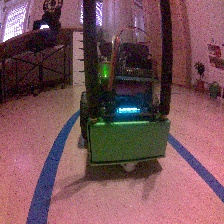rob: (78, 41, 171, 173)
